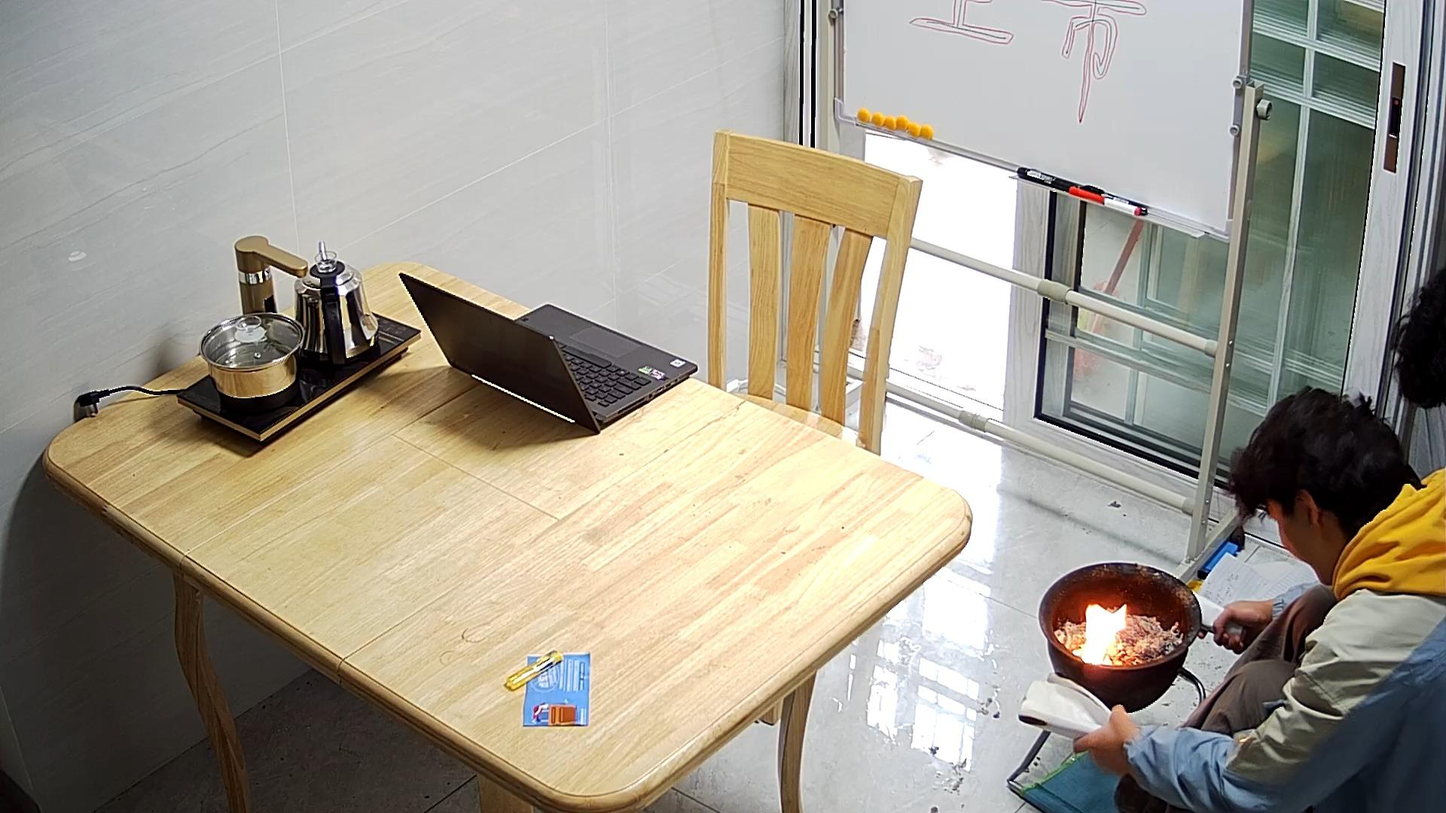fire: (1081, 605, 1125, 662)
